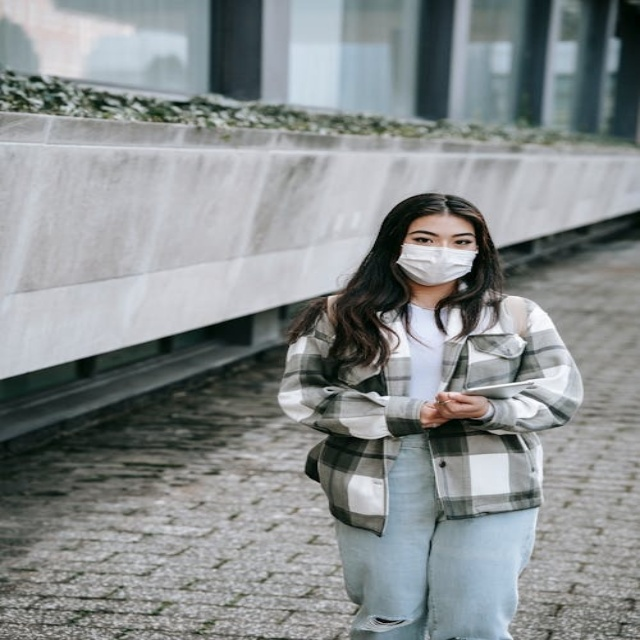Mascara: (393, 243, 478, 285)
Sin_gafas: (413, 237, 434, 244), (453, 239, 472, 246)
Sin_guantes: (434, 390, 493, 422), (421, 401, 449, 430)
